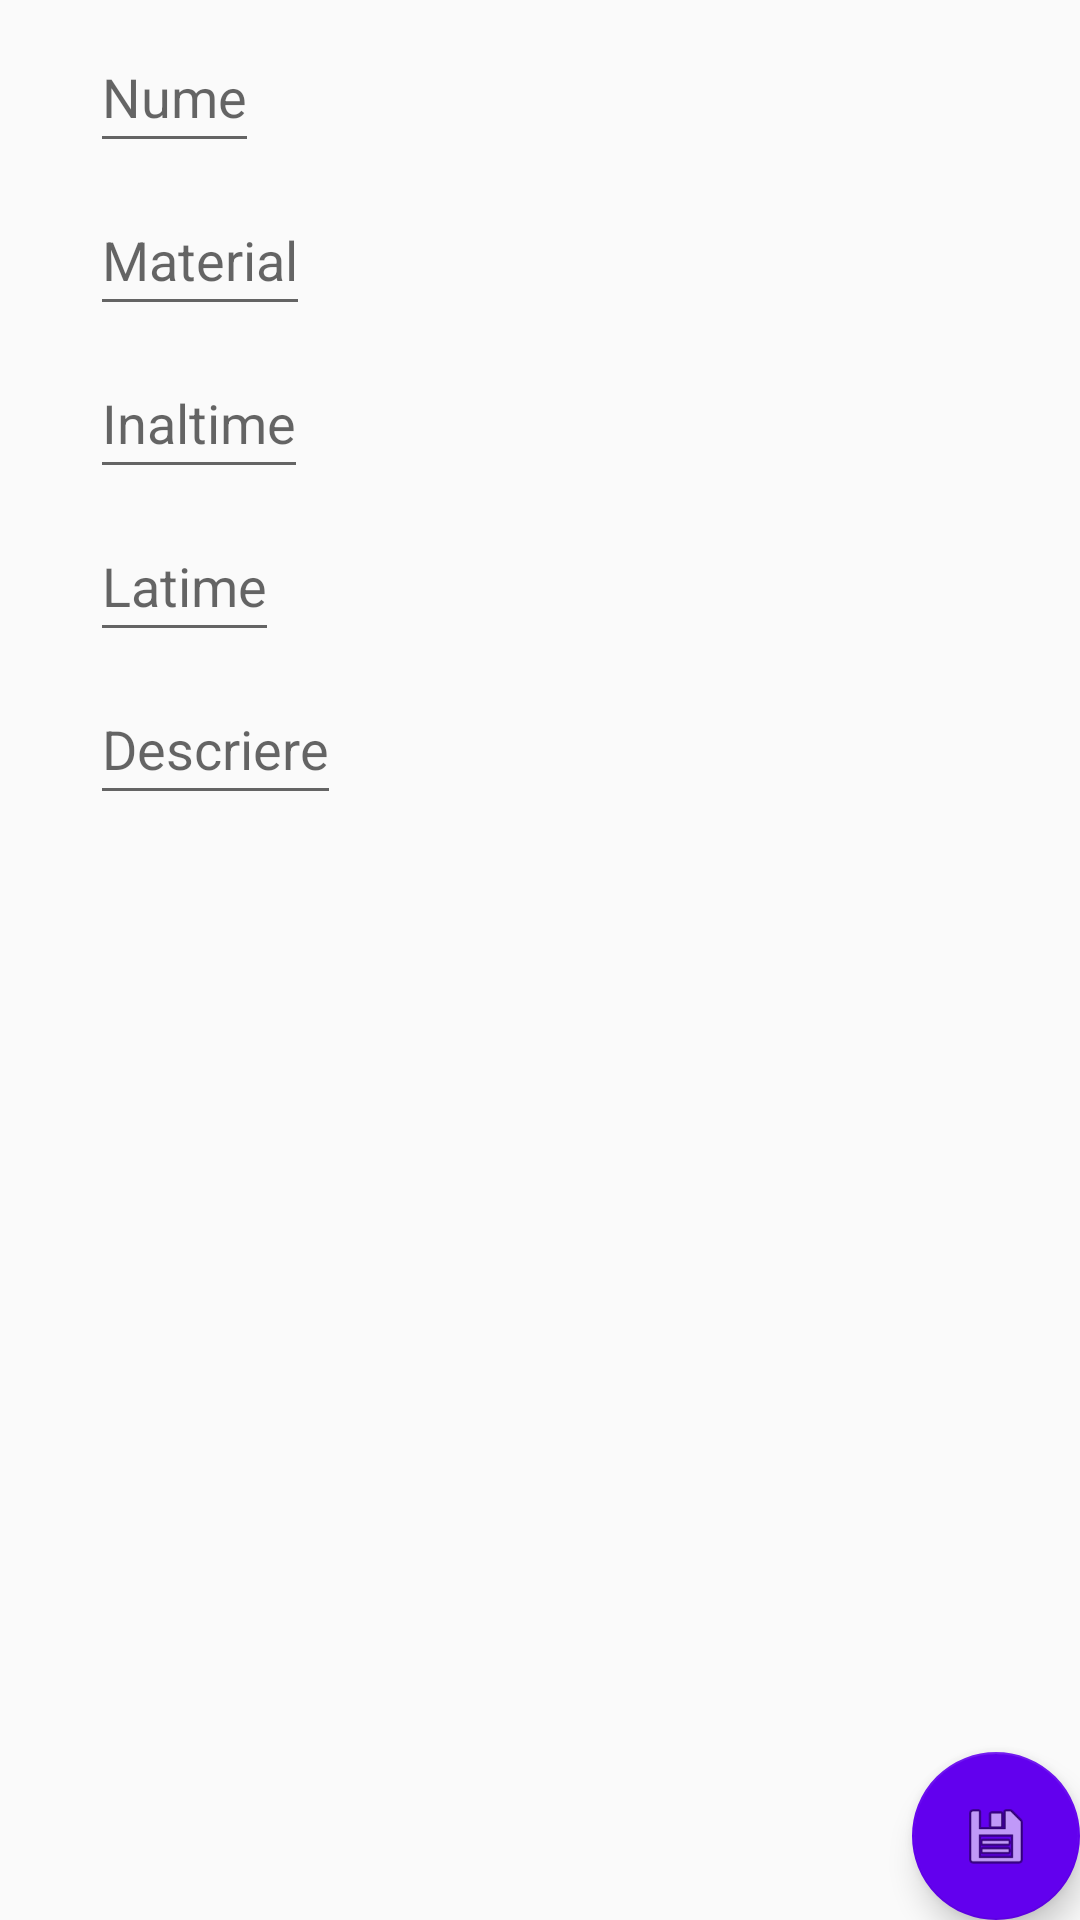

Named icons in this screenshot (1080×1920) and their centers, [x,y]:
save: [996,1836]
